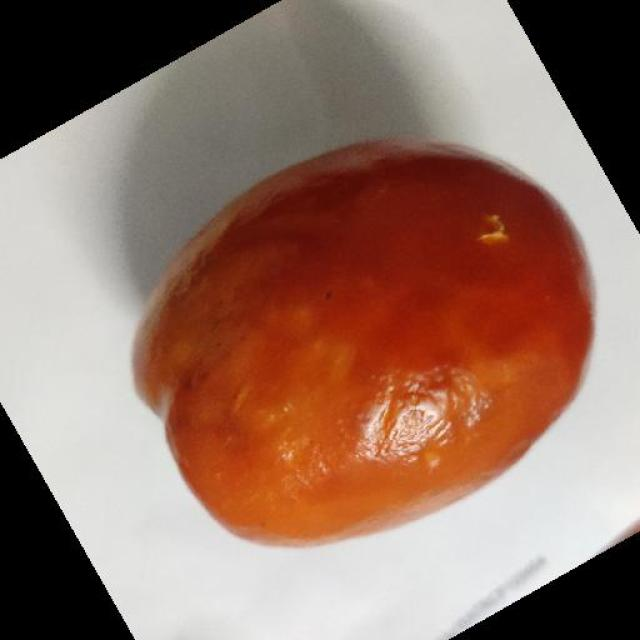Stale_tomato: (144, 151, 579, 492)
